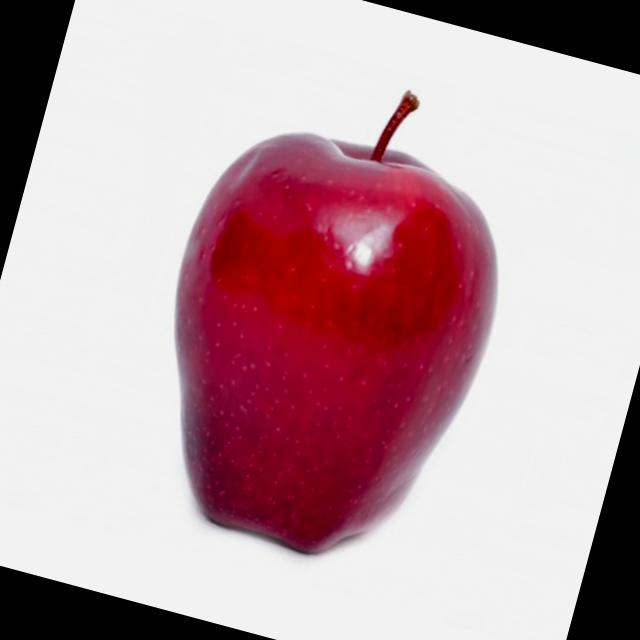apple: (108, 100, 525, 590)
